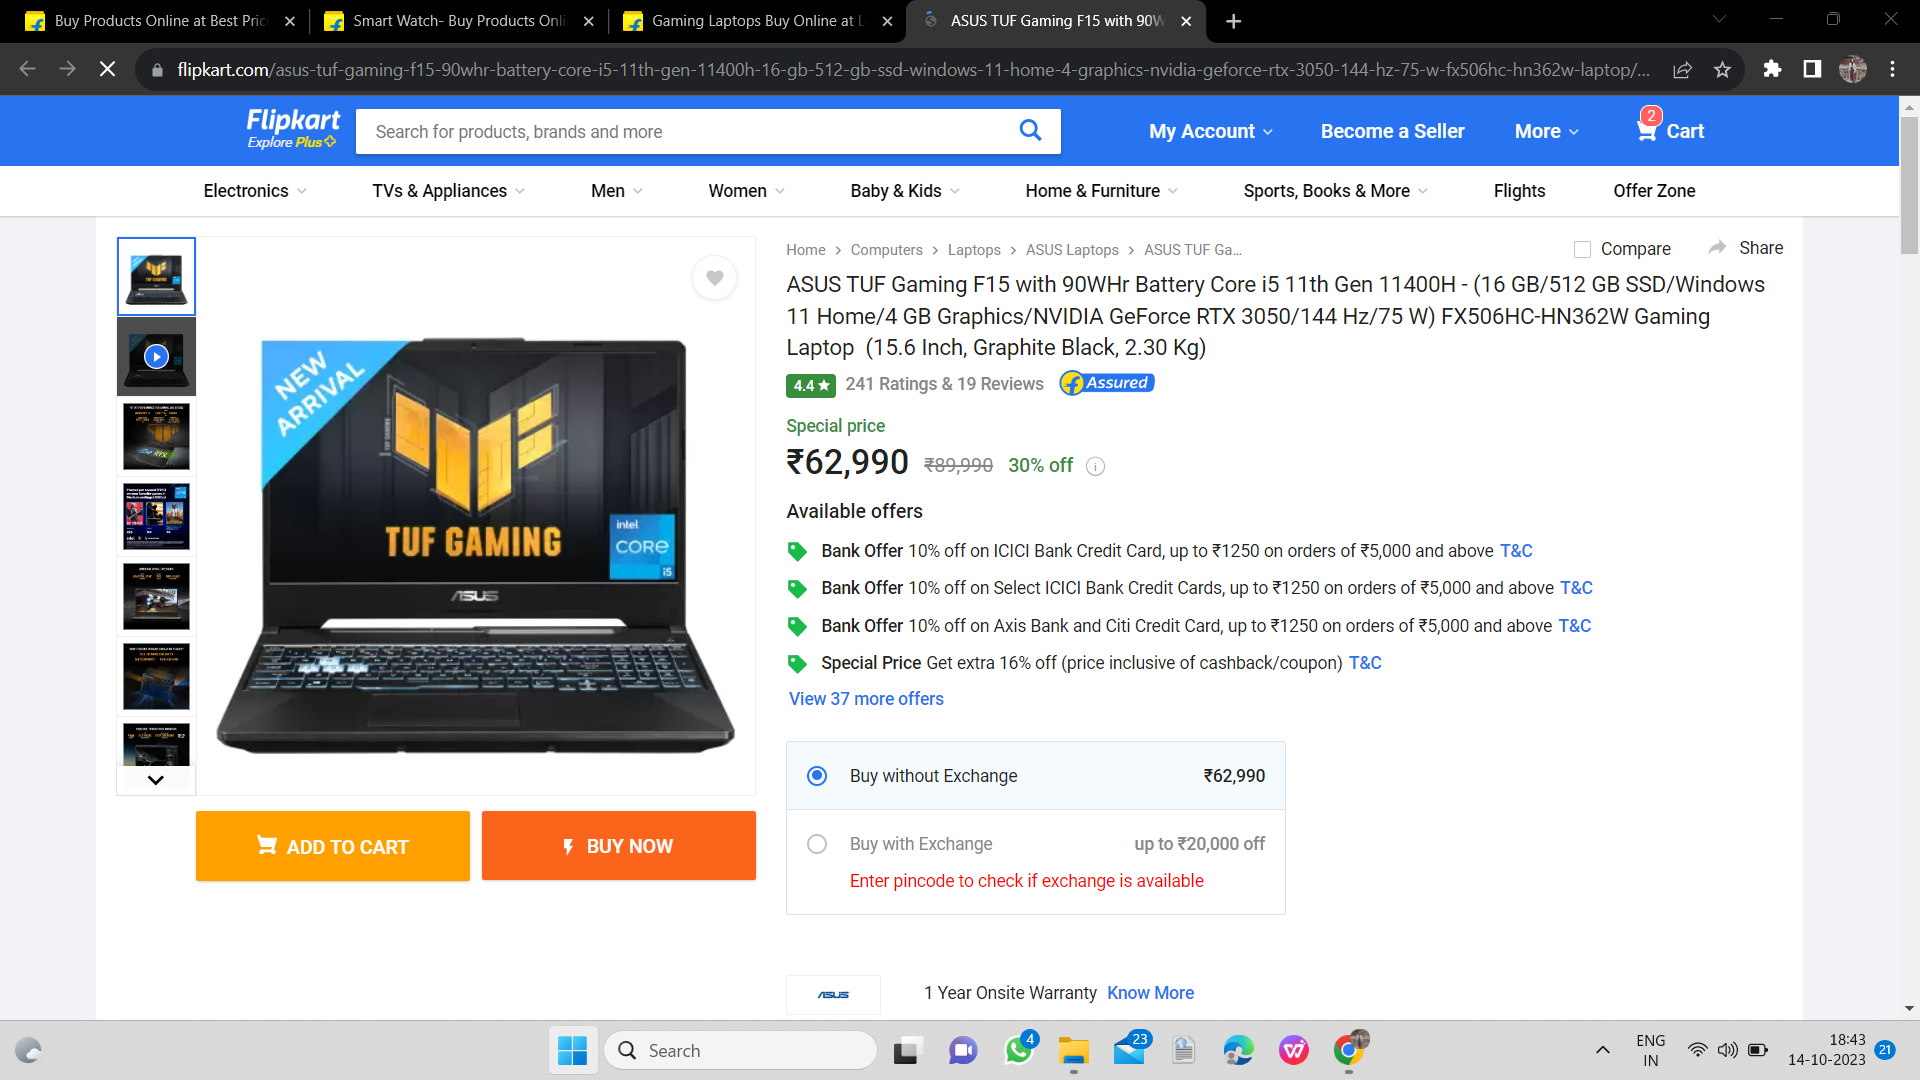Image: (231, 264, 740, 757), (344, 96, 1083, 169)
Paragraph: (783, 498, 1614, 712), (774, 265, 1775, 363), (803, 749, 1276, 906), (187, 800, 760, 891), (1138, 96, 1731, 149), (774, 411, 1116, 479), (767, 377, 1170, 401)
